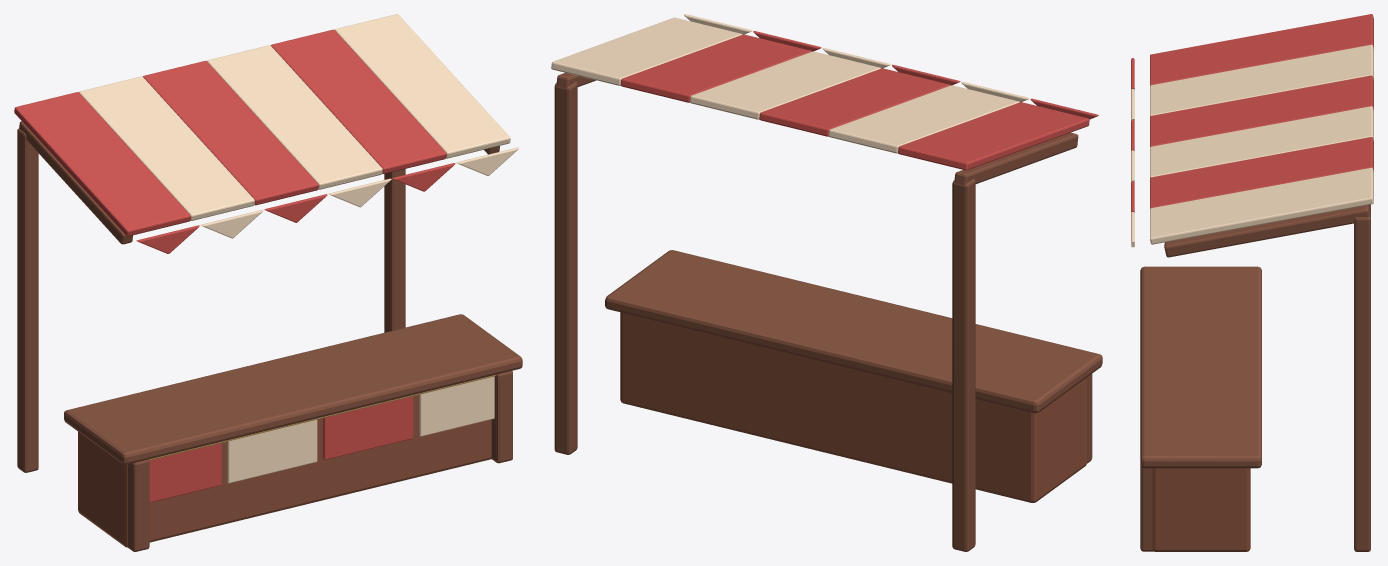
Rendered from stall.glb.
The picture shows the model from 3 angles, left to right: view 1: azimuth 30°, elevation 25°; view 2: azimuth 150°, elevation 25°; view 3: azimuth 270°, elevation 25°; orthographic projection. The views are drawn at different scales.
Parts seen in each view (by area): view 1: stall; view 2: stall; view 3: stall.
Boxes of the visible parts, x1=… form: stall: x1=14, y1=14, x2=522, y2=551; stall: x1=551, y1=14, x2=1102, y2=551; stall: x1=1131, y1=14, x2=1373, y2=551.
Size of the model in its own units: 2.4 by 2.07 by 1.28.
1 material, 1 textured.
